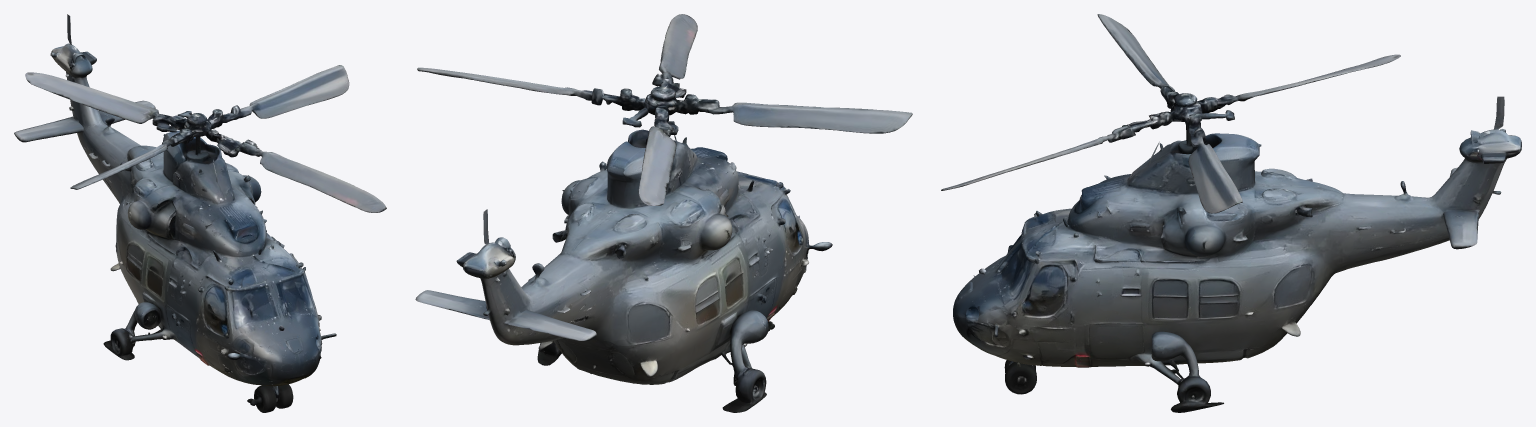
File: helicoptero_exercito.glb
3 views of the same model, side by side, from view 1: azimuth 30°, elevation 25°; view 2: azimuth 150°, elevation 25°; view 3: azimuth 270°, elevation 25° (orthographic). The views are drawn at different scales.
Visible parts, largest first — view 1: corpo, rotor; view 2: corpo, rotor; view 3: corpo, rotor.
Part boxes in pixels (<box>): corpo: <box>14,14,386,412</box>; rotor: <box>26,65,354,189</box>; corpo: <box>415,14,832,412</box>; rotor: <box>417,26,912,205</box>; corpo: <box>941,54,1521,412</box>; rotor: <box>989,14,1396,213</box>.
Bounding box in the file's own units: 11.5 × 8.27 × 15.
1 material, 1 textured.
